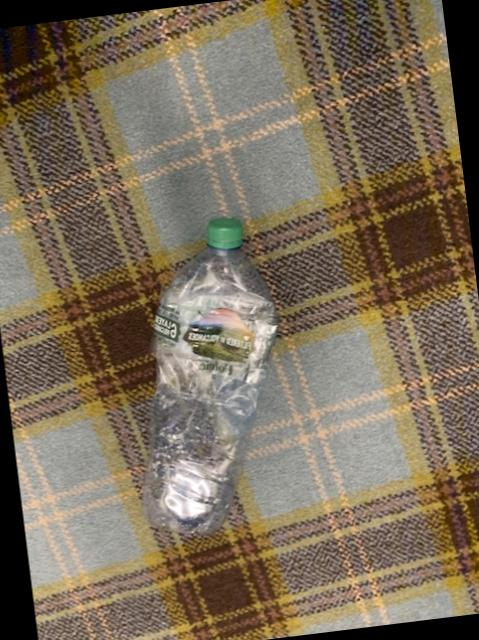plastic: (141, 218, 275, 534)
